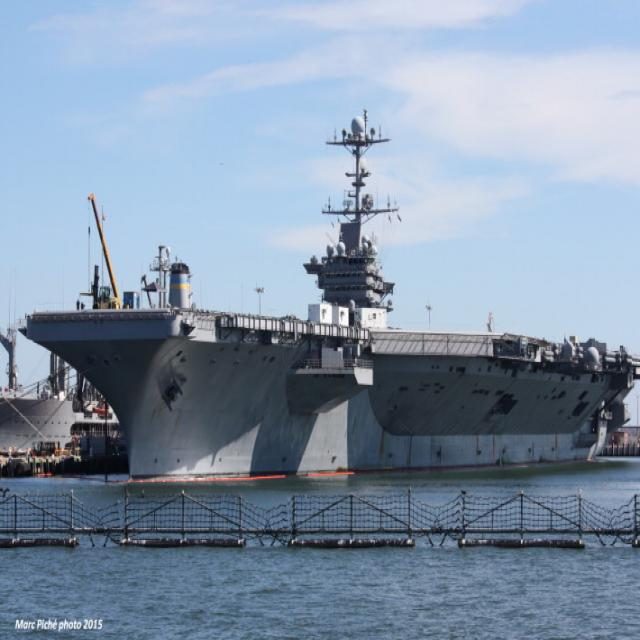Portanaves: (24, 111, 640, 496)
